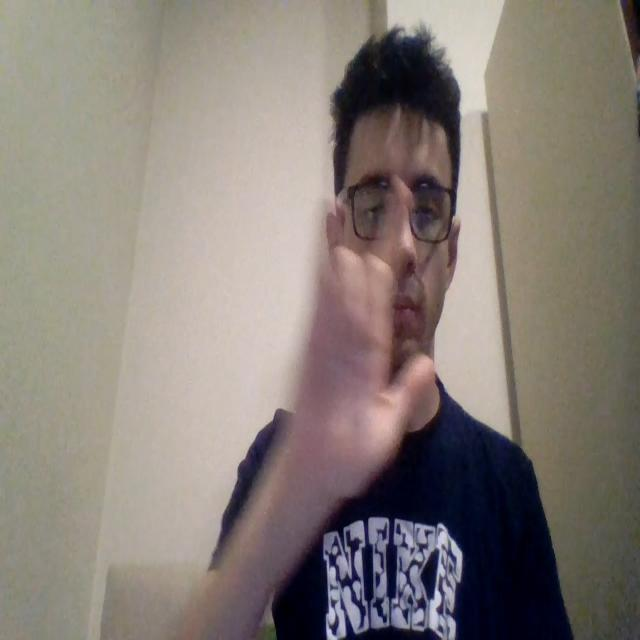iloveyou: (293, 210, 439, 502)
